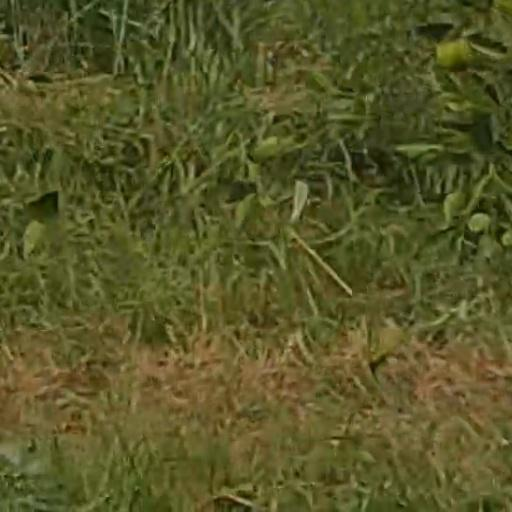acerola_verde: (434, 41, 469, 71)
